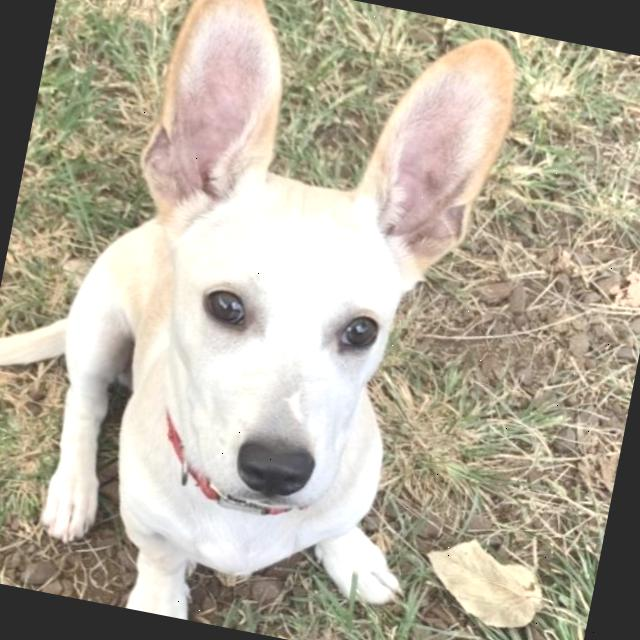corgi_dog: (72, 0, 530, 562)
